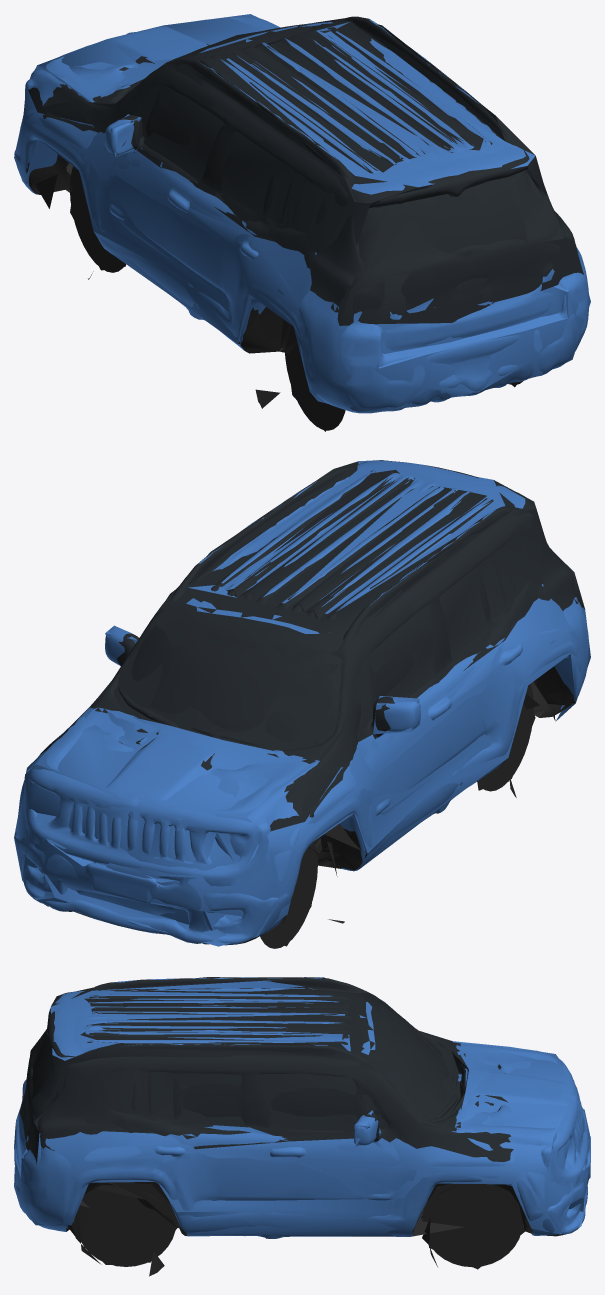
Rendered from jeep-renegade.glb.
3 views of the same model, one above another, from view 1: azimuth 30°, elevation 25°; view 2: azimuth 150°, elevation 25°; view 3: azimuth 270°, elevation 25° (orthographic). The views are drawn at different scales.
Parts seen in each view (by area): view 1: body, far; view 2: body, far; view 3: body, far.
Part boxes in pixels (x1=…): body: x1=14, y1=16, x2=588, y2=430; far: x1=14, y1=14, x2=590, y2=431; body: x1=14, y1=460, x2=588, y2=948; far: x1=14, y1=460, x2=590, y2=946; body: x1=14, y1=977, x2=590, y2=1276; far: x1=14, y1=977, x2=589, y2=1269.
Bounding box in the file's own units: 2.13 × 1.81 × 4.25.
